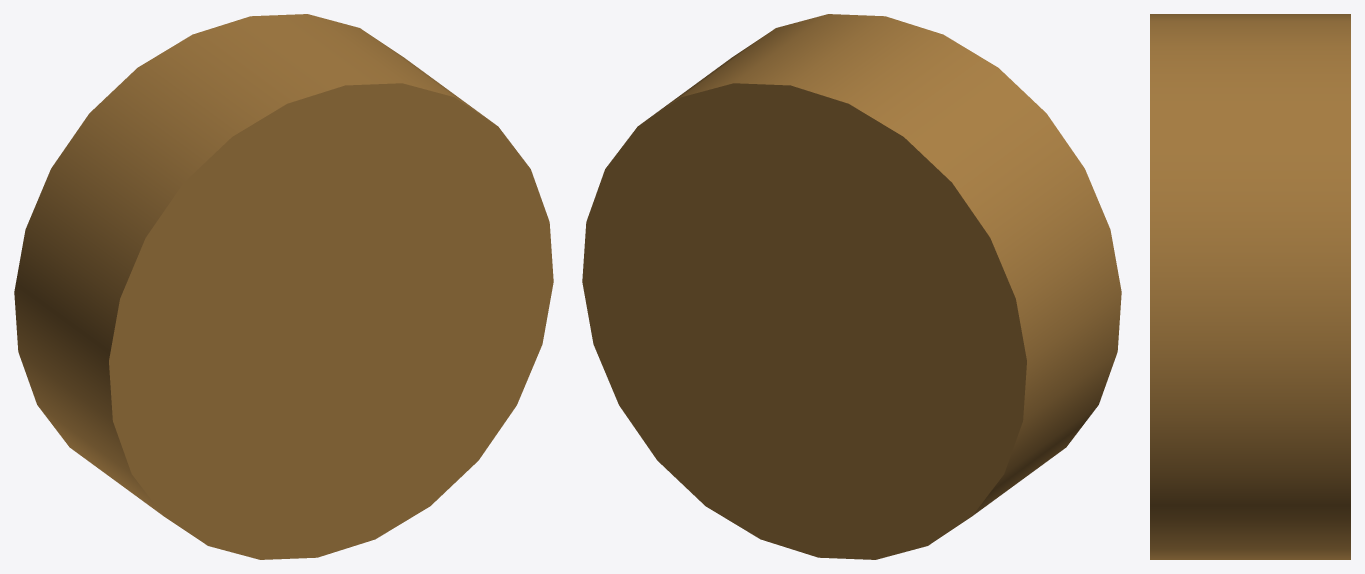
File: original-8.obj
3 views of the same model, side by side, from view 1: azimuth 30°, elevation 25°; view 2: azimuth 150°, elevation 25°; view 3: azimuth 270°, elevation 25° (orthographic). The views are drawn at different scales.
Visible parts, largest first — view 1: Group8/mesh15/mesh15-geometry#mesh15-geometry; view 2: Group8/mesh15/mesh15-geometry#mesh15-geometry; view 3: Group8/mesh15/mesh15-geometry#mesh15-geometry.
Boxes of the visible parts, <box> form: Group8/mesh15/mesh15-geometry#mesh15-geometry: <box>14,14,553,559</box>; Group8/mesh15/mesh15-geometry#mesh15-geometry: <box>582,14,1121,559</box>; Group8/mesh15/mesh15-geometry#mesh15-geometry: <box>1150,14,1350,559</box>.
Size of the model in its own units: 1.06 by 1.06 by 0.3899.
